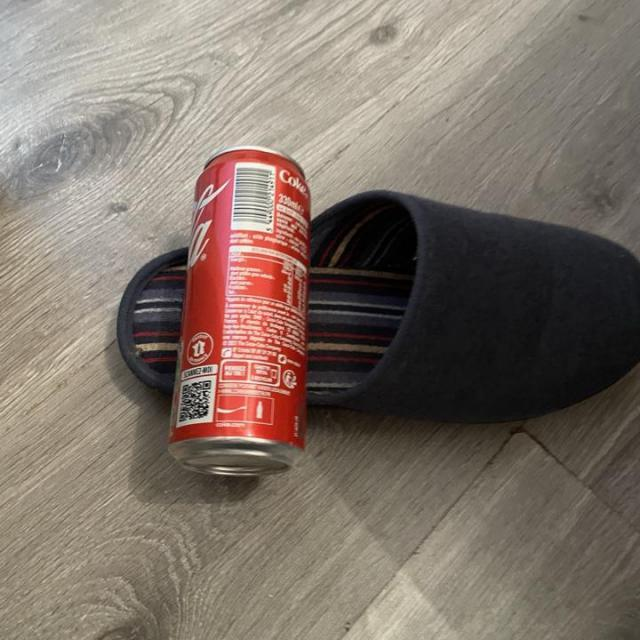recyclable: (166, 147, 312, 488)
